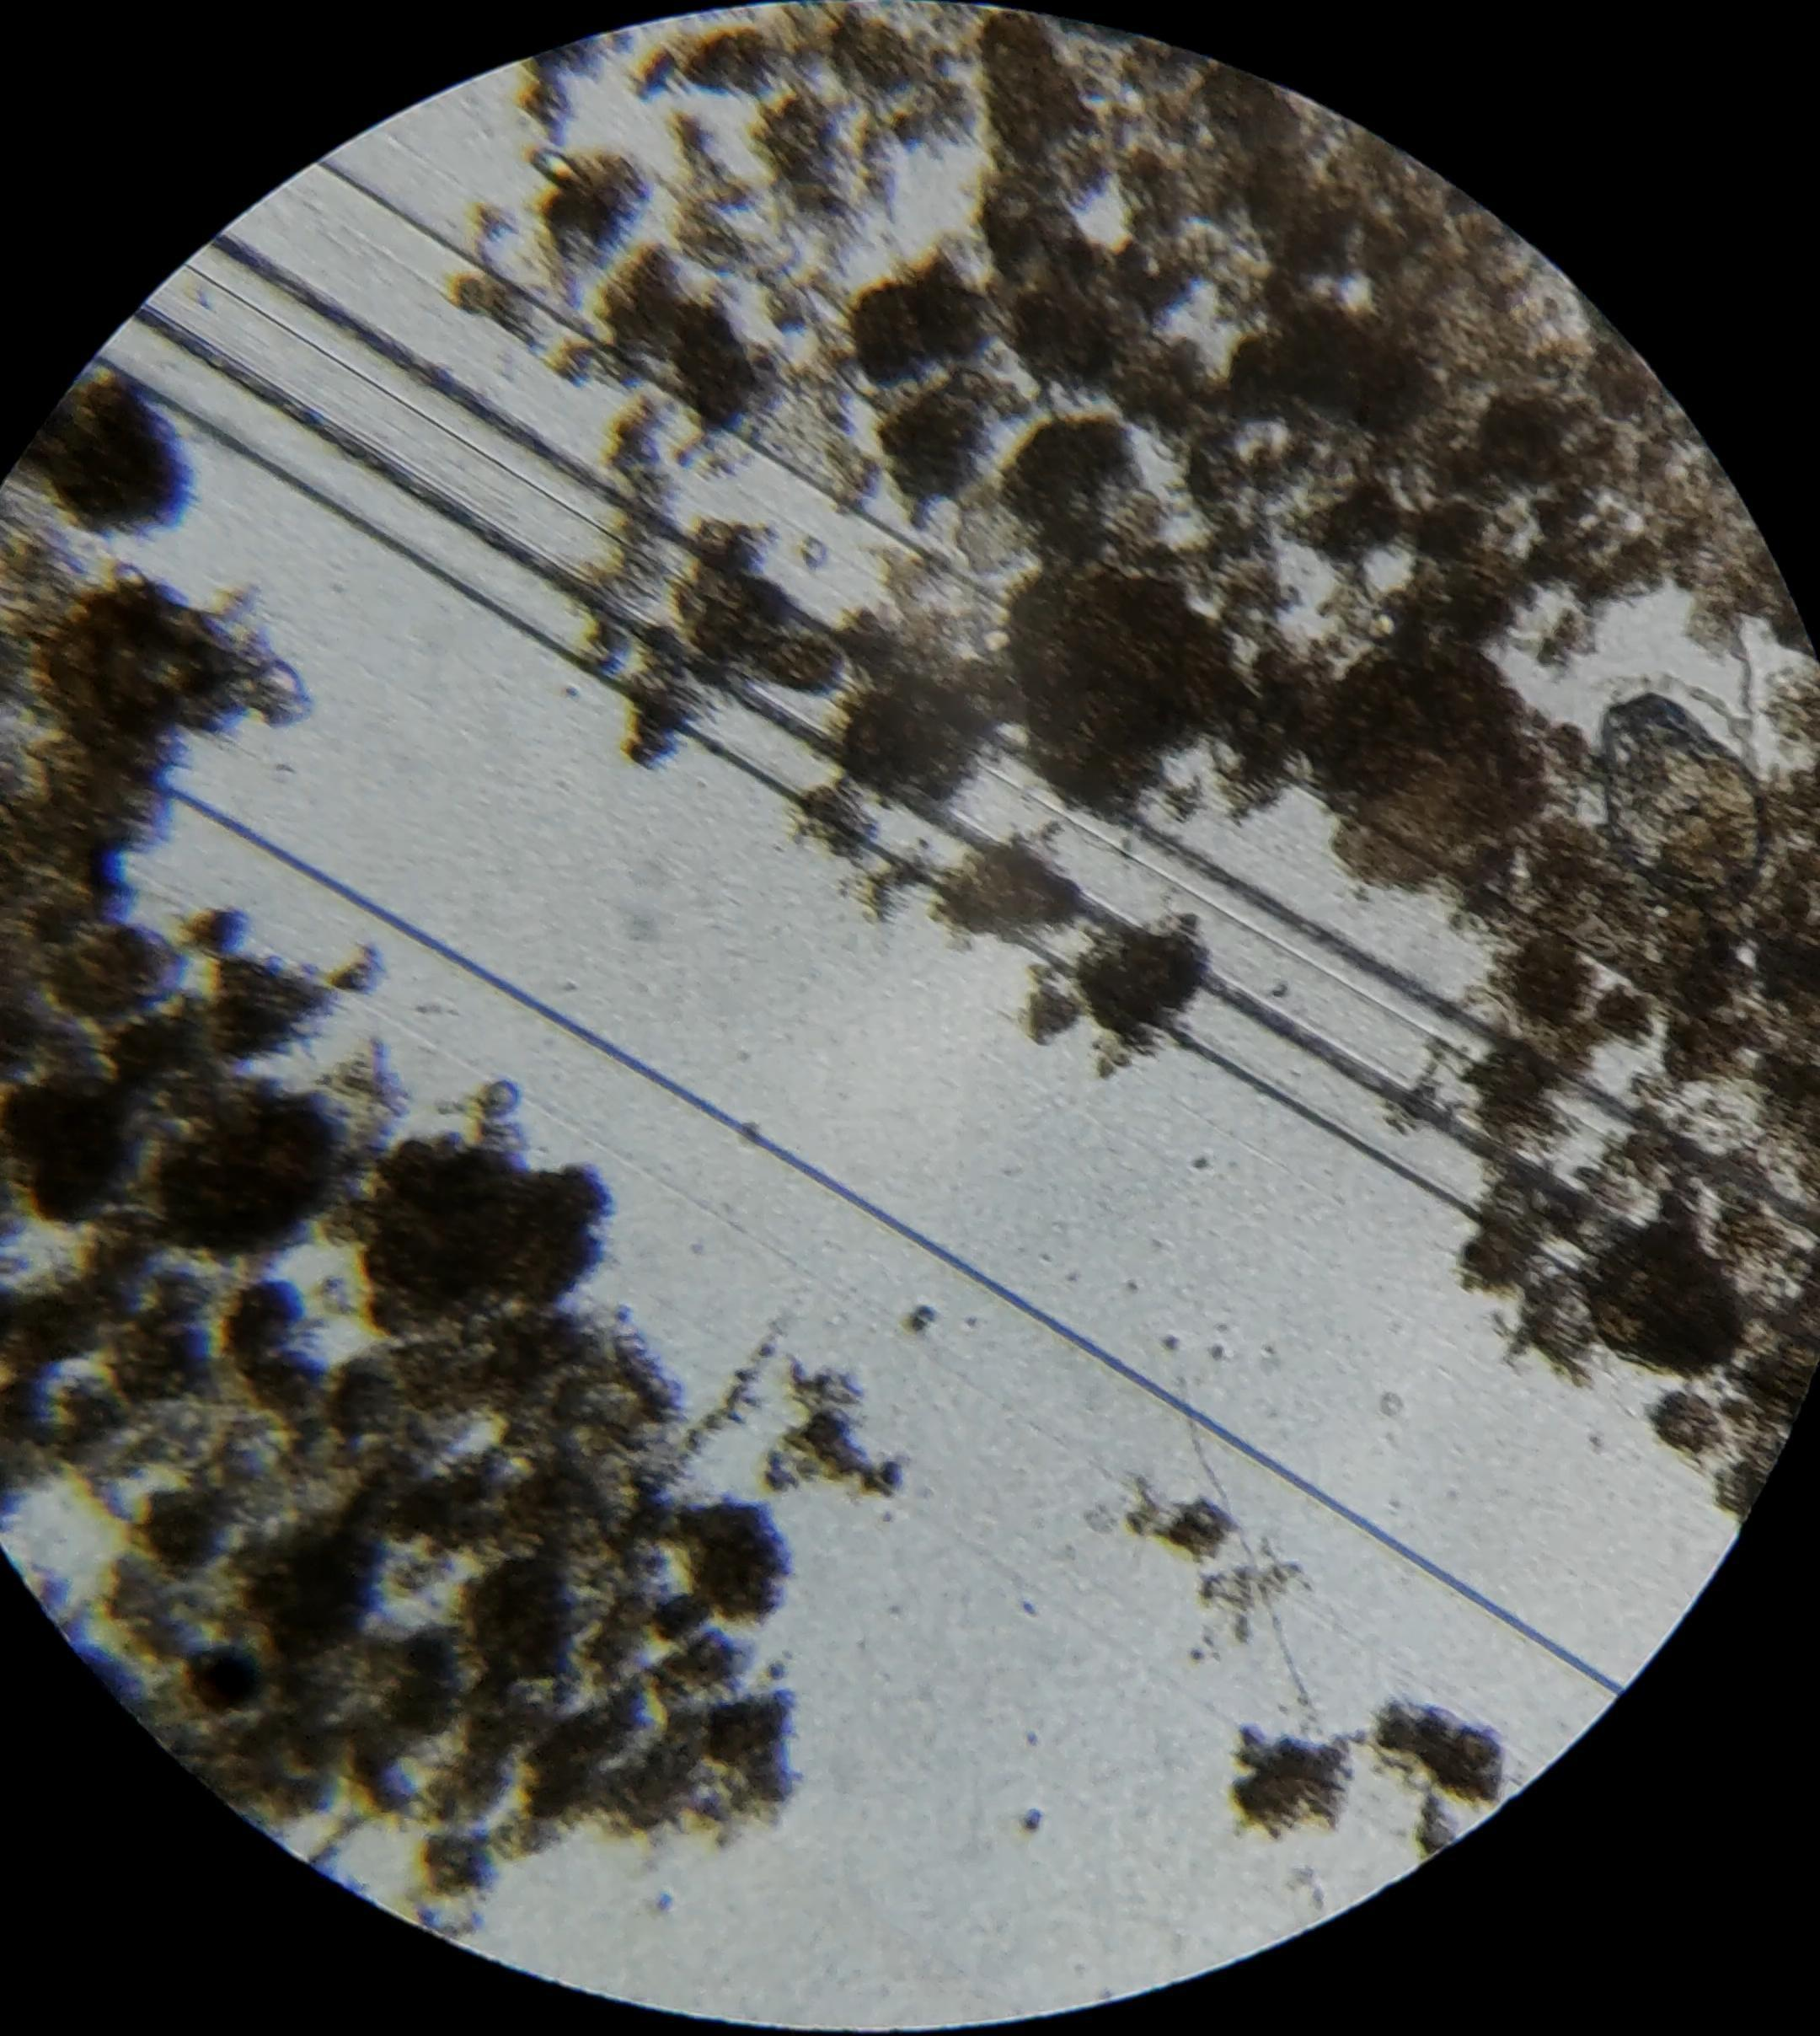Do: (1602, 696, 1764, 913)
